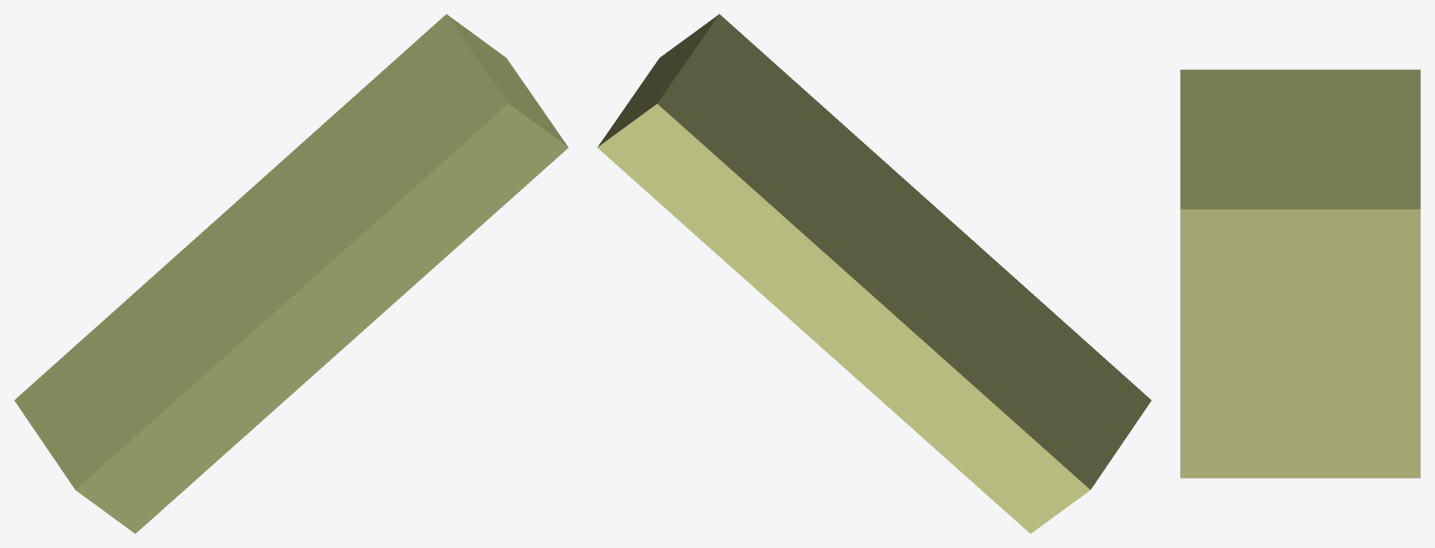
3 views of the same model, side by side, from view 1: azimuth 30°, elevation 25°; view 2: azimuth 150°, elevation 25°; view 3: azimuth 270°, elevation 25° (orthographic). The views are drawn at different scales.
Visible parts, largest first — view 1: 0_0_1_1_2_2_0_1_0; view 2: 0_0_1_1_2_2_0_1_0; view 3: 0_0_1_1_2_2_0_1_0.
Part boxes in pixels (x1=…): 0_0_1_1_2_2_0_1_0: x1=14, y1=14, x2=568, y2=533; 0_0_1_1_2_2_0_1_0: x1=597, y1=14, x2=1151, y2=533; 0_0_1_1_2_2_0_1_0: x1=1180, y1=69, x2=1420, y2=478.
Bounding box in the file's own units: 28.54 × 21.26 × 6.
